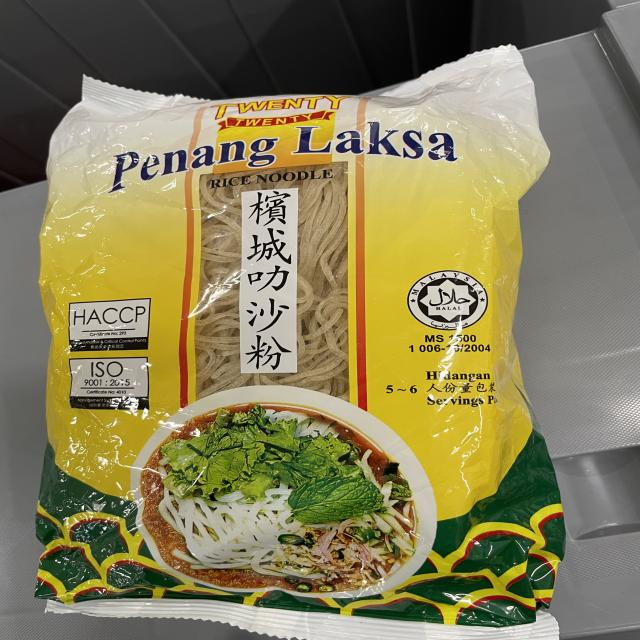object_name: (55, 90, 527, 618)
